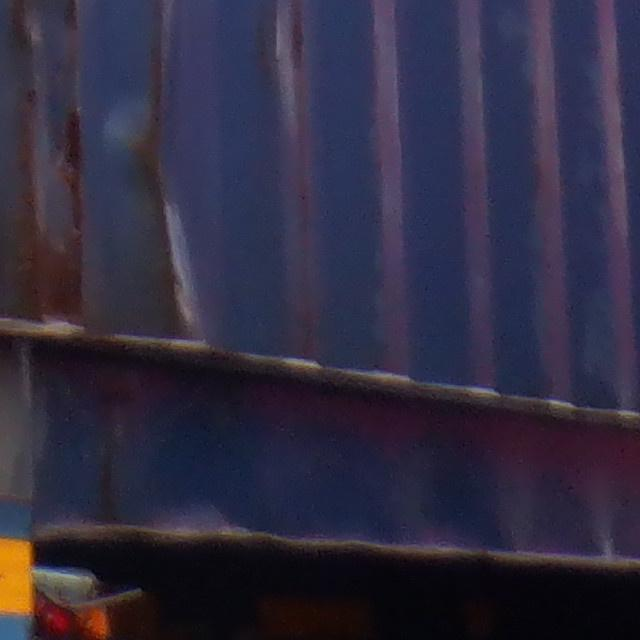Rust: (0, 0, 261, 340)
